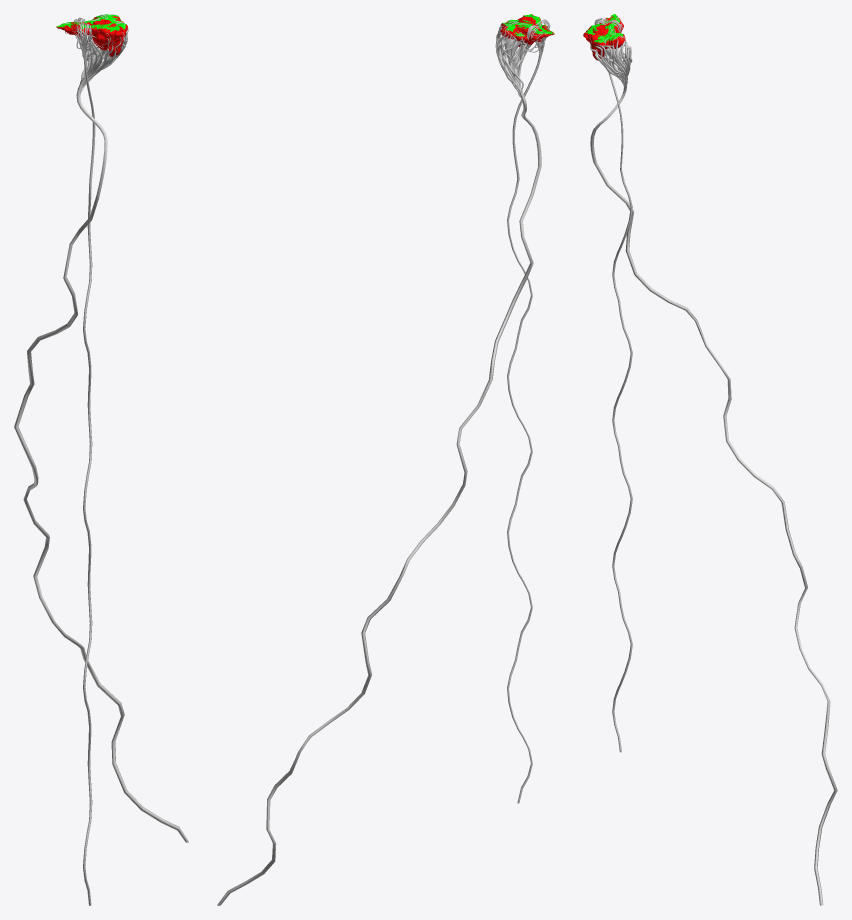
Rendered from Isle_Static_GrannysHouse.fbx.
The picture shows the model from 3 angles, left to right: view 1: azimuth 30°, elevation 25°; view 2: azimuth 150°, elevation 25°; view 3: azimuth 270°, elevation 25°; orthographic projection. The views are drawn at different scales.
Parts seen in each view (by area): view 1: Isle_Static_GrannysHouse_Roots, Isle_Static_GrannysHouse_Land; view 2: Isle_Static_GrannysHouse_Roots, Isle_Static_GrannysHouse_Land; view 3: Isle_Static_GrannysHouse_Roots, Isle_Static_GrannysHouse_Land.
Part boxes in pixels (x1,y1,x2,y2): Isle_Static_GrannysHouse_Roots: (14, 14, 188, 905); Isle_Static_GrannysHouse_Land: (56, 14, 127, 56); Isle_Static_GrannysHouse_Roots: (217, 19, 552, 905); Isle_Static_GrannysHouse_Land: (500, 14, 554, 59); Isle_Static_GrannysHouse_Roots: (588, 17, 837, 905); Isle_Static_GrannysHouse_Land: (583, 14, 625, 63).
Bounding box in the file's own units: 27810 × 99692 × 29031.
